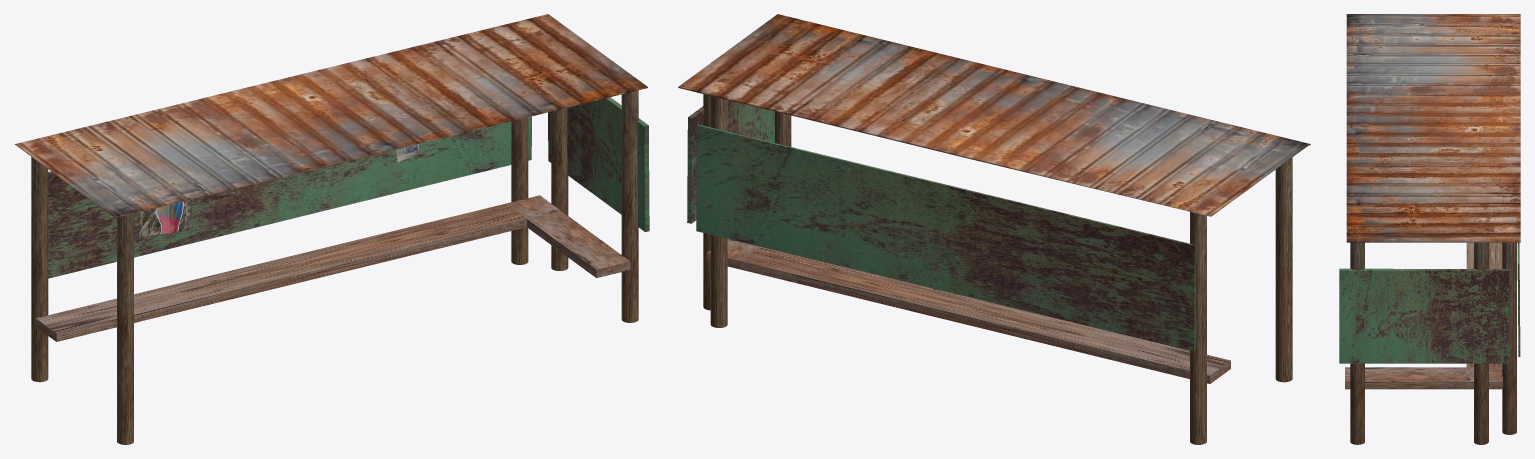
Rendered from bus stop.fbx.
3 renders of one model, left to right at view 1: azimuth 30°, elevation 25°; view 2: azimuth 150°, elevation 25°; view 3: azimuth 270°, elevation 25°, orthographic. The views are drawn at different scales.
Visible parts, largest first — view 1: roof, wall, bench, bamboo, Plane; view 2: wall, roof, bench, bamboo; view 3: roof, wall, bamboo, bench.
Boxes of the visible parts, x1,y1,x2,y2 form: roof: (15,14,647,218); wall: (48,97,649,278); bench: (35,195,630,341); bamboo: (31,90,638,444); Plane: (138,199,193,237); wall: (687,100,1195,351); roof: (678,14,1310,216); bench: (706,239,1230,383); bamboo: (703,94,1292,444); roof: (1346,14,1520,242); wall: (1339,242,1520,363); bamboo: (1350,242,1516,444); bench: (1345,242,1502,389).
Size of the model in its own units: 14833 by 6220 by 4995.
Materials: 6 (6 with a texture image).
